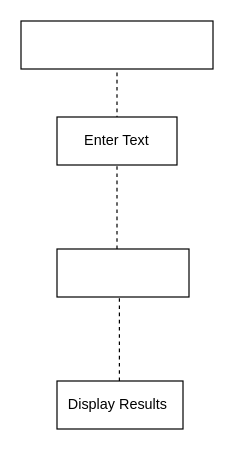
Image size: 234x450. Some labels were removed from this diagram. The shapes that lost their labels are listed below. From the top down, each one's centre as x and y in pixels, then its label:
At (116,44): "User".
At (122,272): "Convert to Pig Latin".
